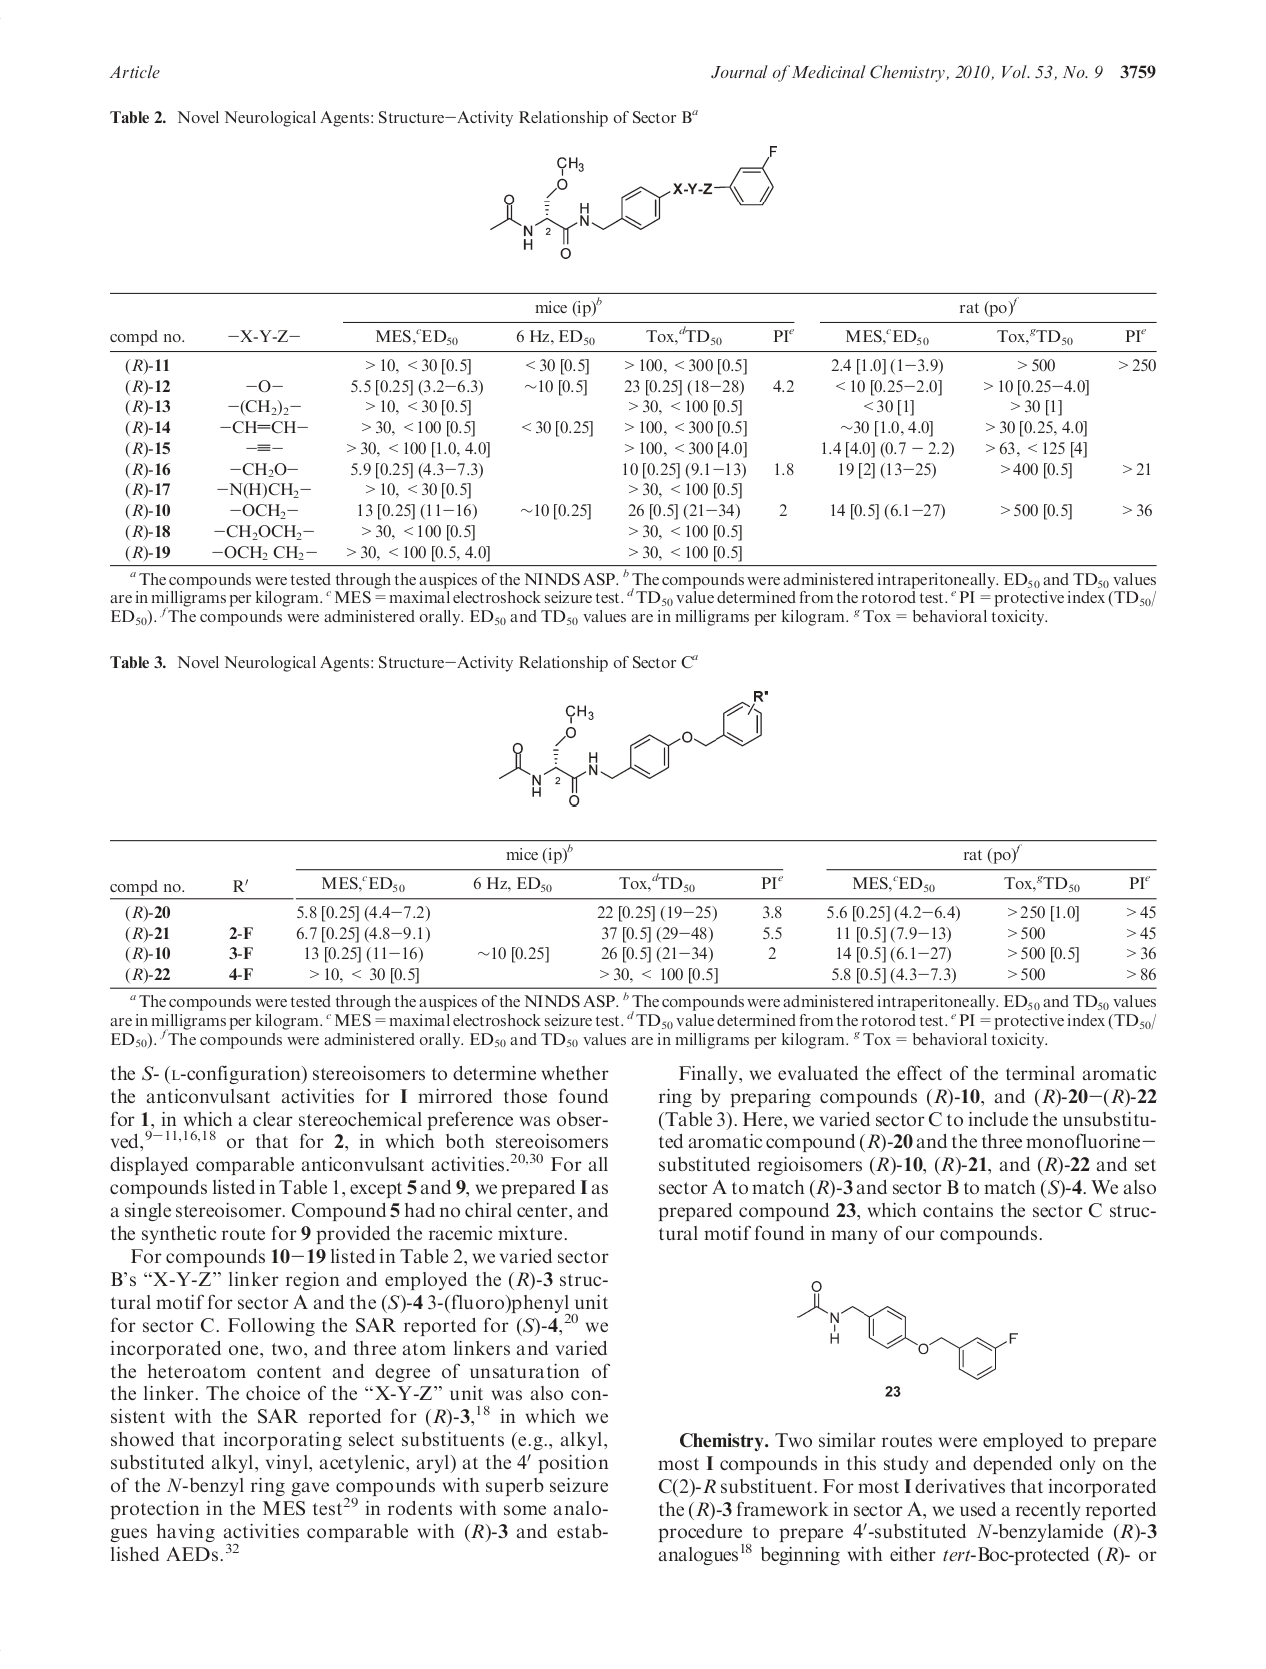exist_molecular: (489, 132, 783, 265), (496, 682, 777, 814), (790, 1277, 1023, 1386)
